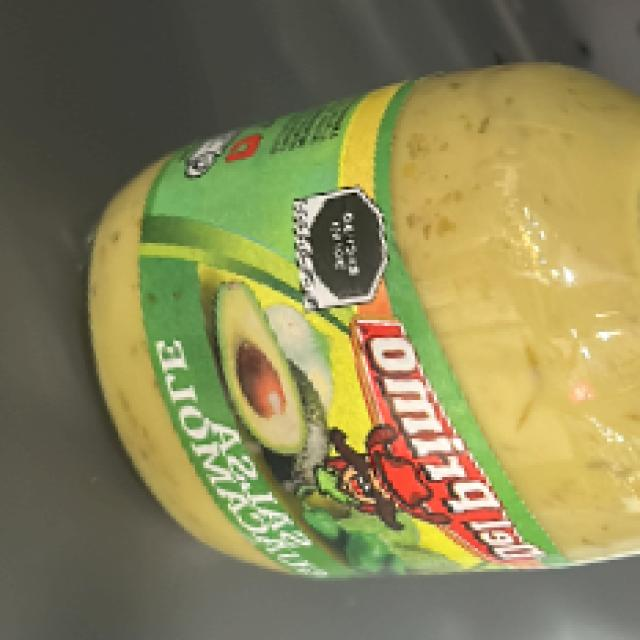delPrimoSalsa: (111, 120, 607, 579)
